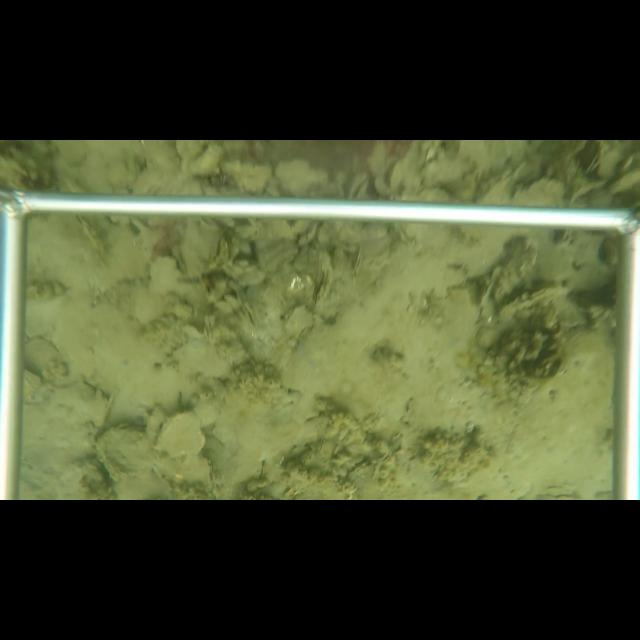Oyster-Closed: (95, 425, 154, 483), (499, 284, 569, 328), (152, 453, 216, 494), (153, 410, 209, 454), (22, 336, 66, 383), (474, 267, 505, 328), (229, 278, 261, 334), (74, 214, 108, 265), (371, 436, 402, 484), (311, 250, 334, 310), (345, 460, 372, 483), (352, 245, 365, 281), (315, 225, 331, 244), (307, 220, 316, 244)
Oyster-Open: (582, 144, 606, 177), (346, 171, 369, 199)
